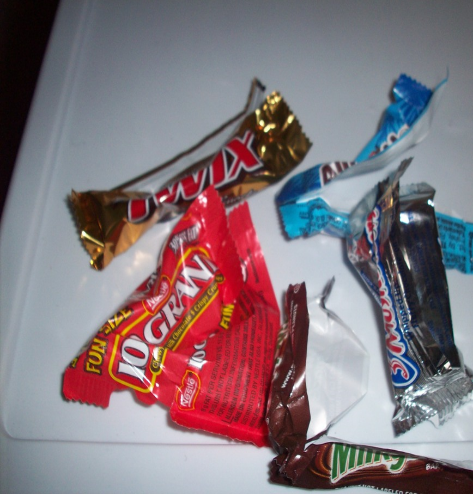wrapper: (57, 186, 272, 449), (65, 73, 312, 272), (268, 281, 472, 494), (278, 69, 473, 276), (344, 155, 473, 439)
